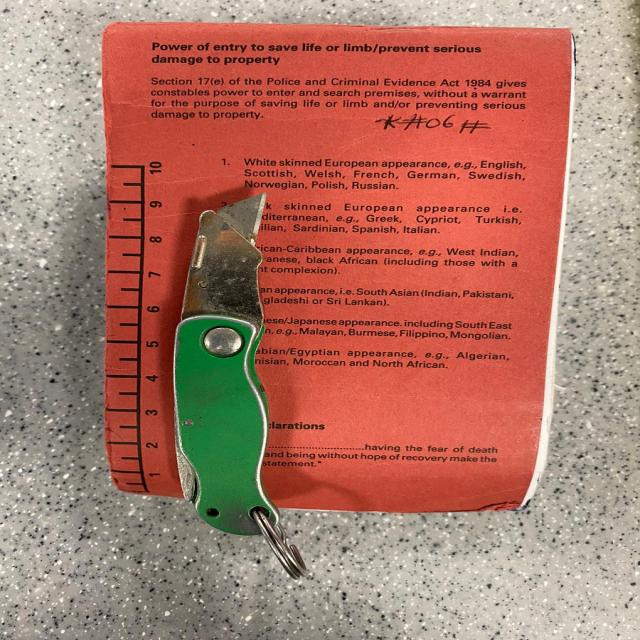Sharp-Object: (173, 192, 283, 541)
